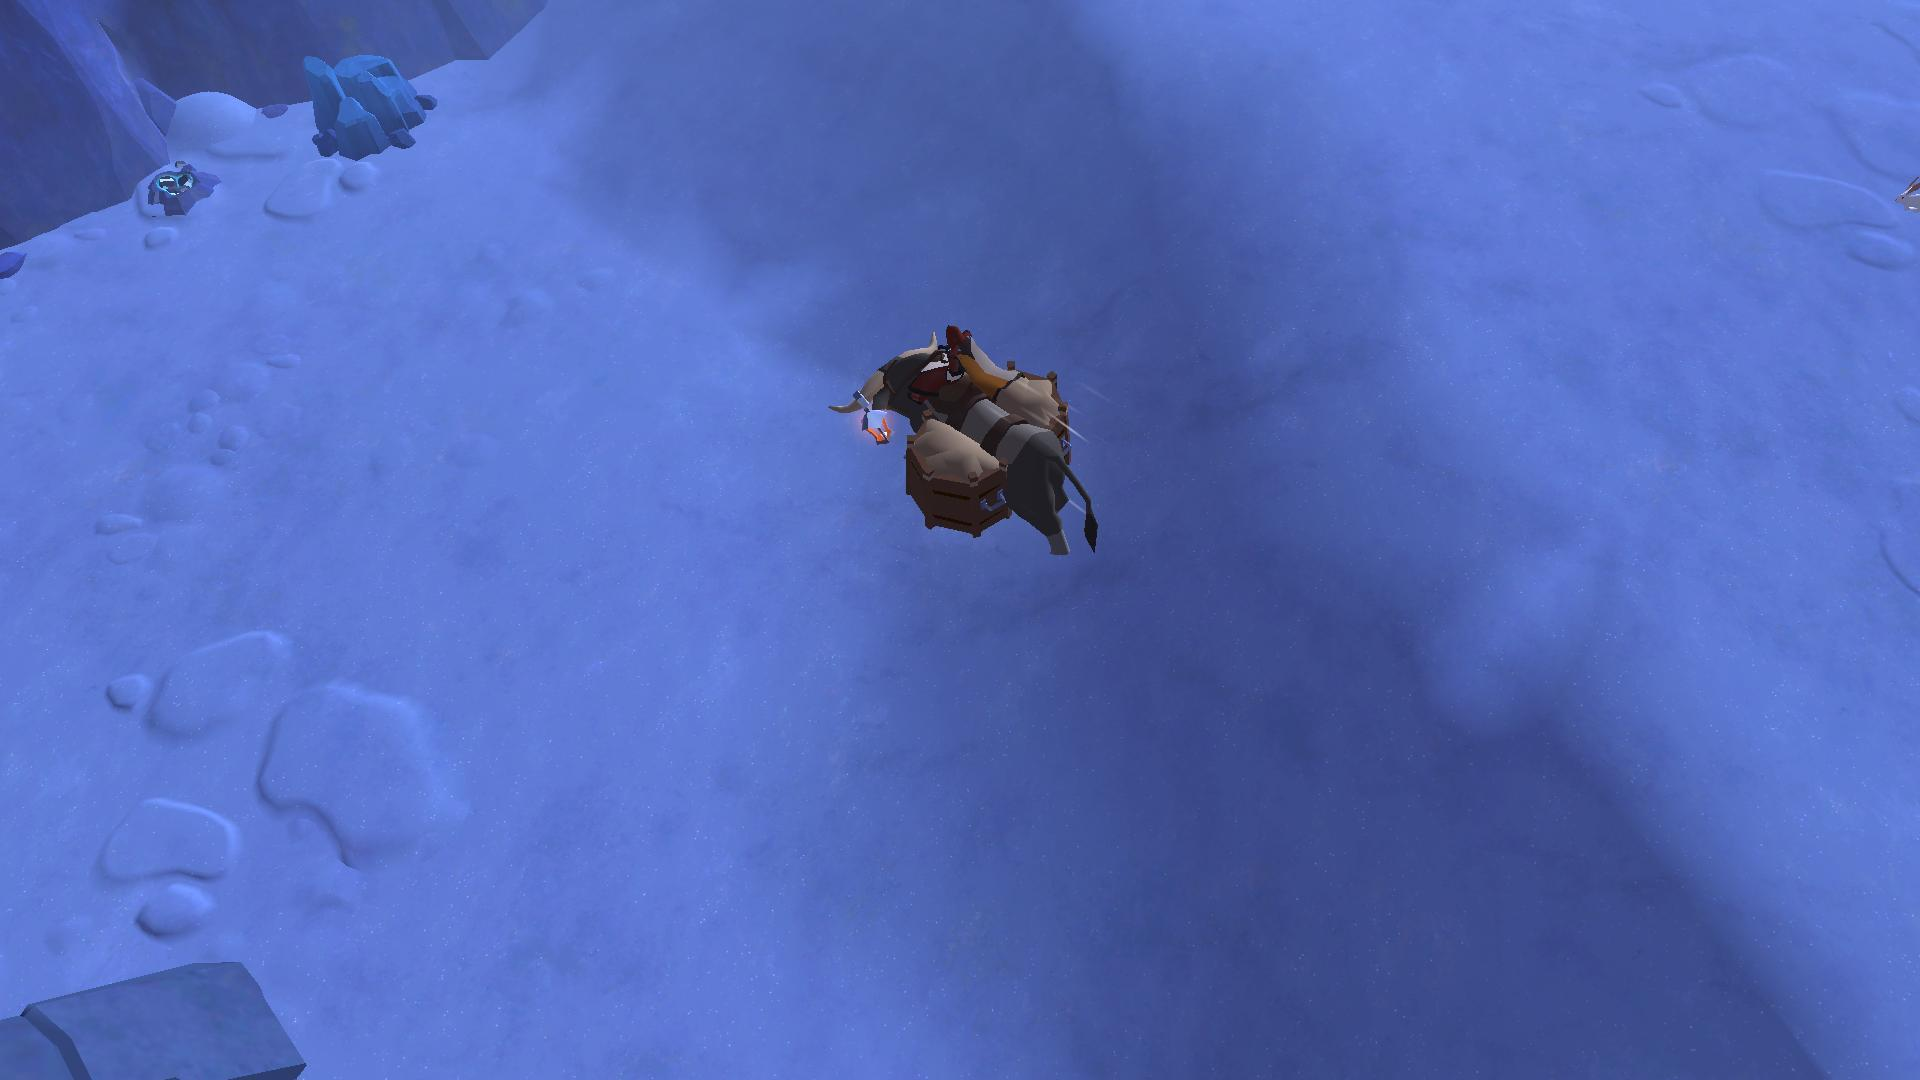rock_t4: (299, 50, 440, 153)
